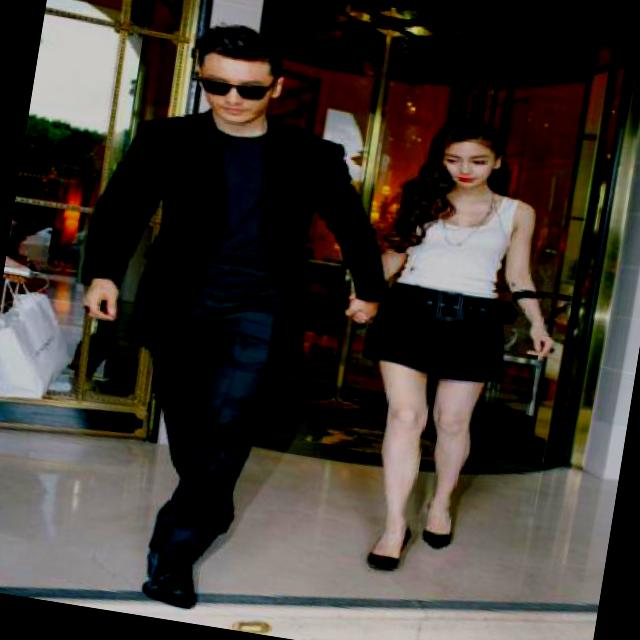Person: (28, 0, 378, 603), (322, 96, 544, 580)
